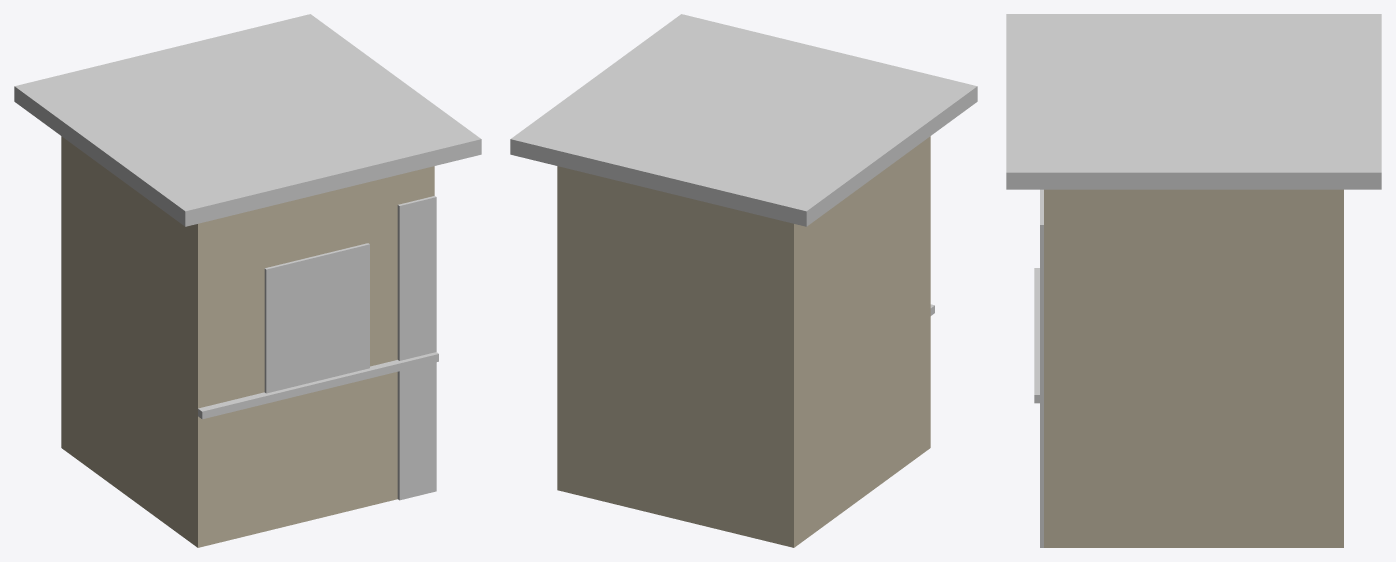
Rendered from detail-gatehouse.glb.
The picture shows the model from 3 angles, left to right: view 1: azimuth 30°, elevation 25°; view 2: azimuth 150°, elevation 25°; view 3: azimuth 270°, elevation 25°; orthographic projection. The views are drawn at different scales.
Visible parts, largest first — view 1: detail-gatehouse; view 2: detail-gatehouse; view 3: detail-gatehouse.
Boxes of the visible parts, x1,y1,x2,y2 form: detail-gatehouse: (14, 14, 481, 547); detail-gatehouse: (510, 14, 977, 547); detail-gatehouse: (1006, 14, 1381, 547).
Bounding box in the file's own units: 2 × 2.3 × 2.
